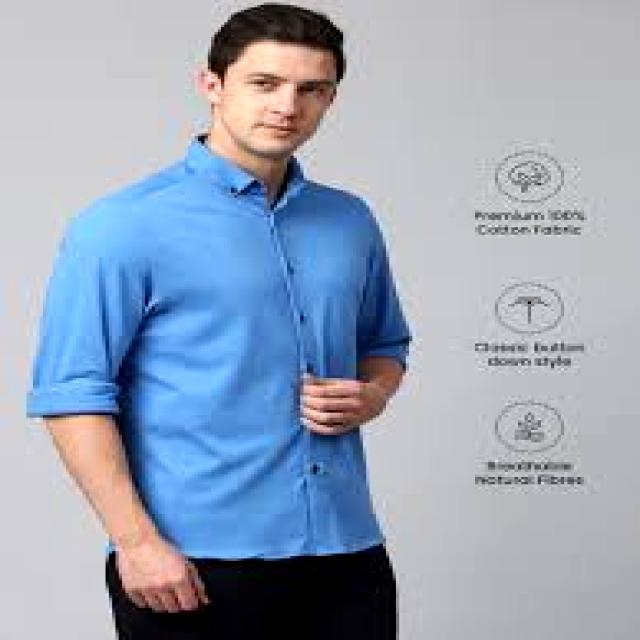face: (202, 40, 336, 160)
lower-wear: (106, 544, 395, 639)
top-wear: (27, 136, 409, 558)
